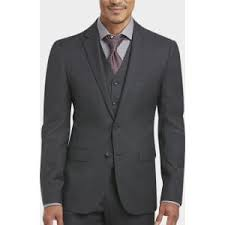F_M_suit jacket: (42, 13, 190, 216)
